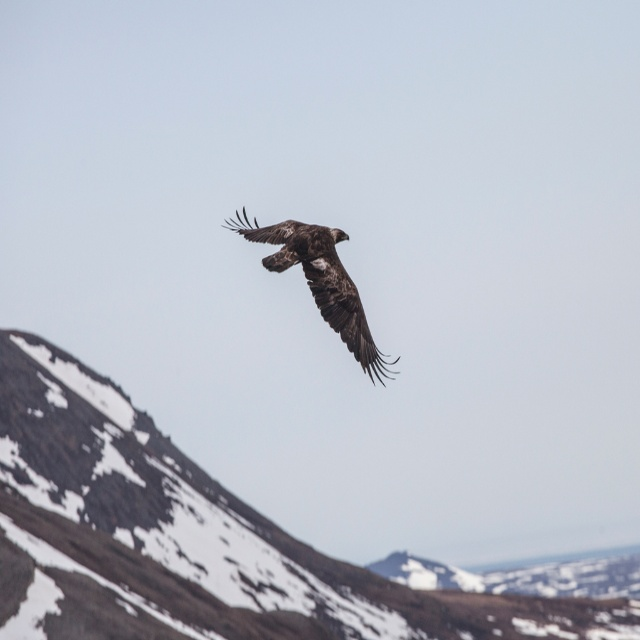Eagle: (218, 199, 402, 393)
